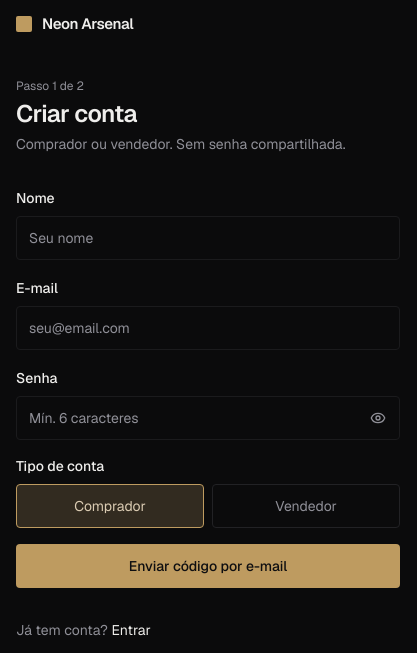
Register › maps 429 on resend to wait copy without leaving step 2
Type "Ana" into the field labelled "Nome". click: (208, 238)
box: x1=16 y1=216 x2=400 y2=260
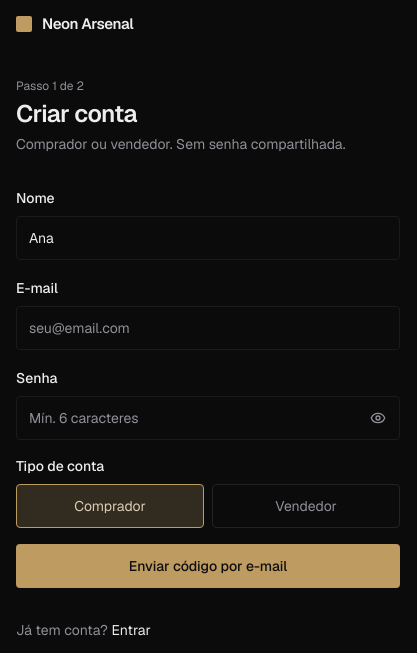
Type "ana@test.com" into the field labelled "E-mail". click: (208, 328)
box: x1=16 y1=306 x2=400 y2=350
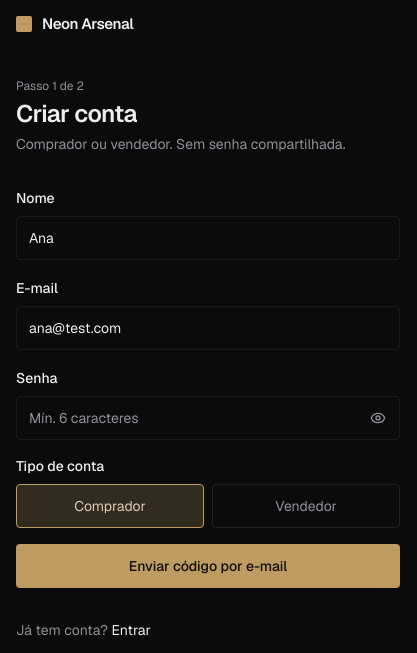
Type "secret1" into the password field labelled "Senha". click: (208, 418)
box: x1=16 y1=396 x2=400 y2=440
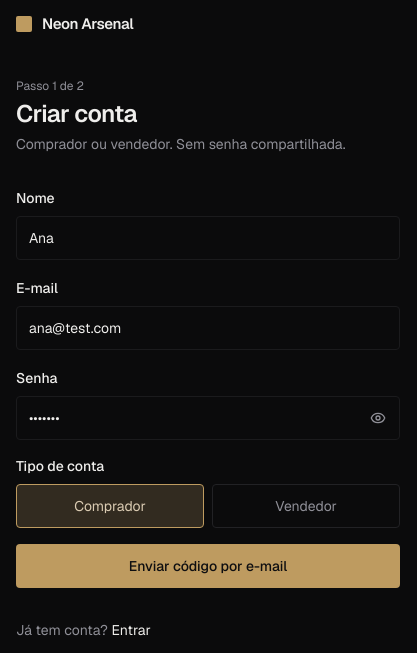
Click the button "Enviar código por e-mail". click: click(208, 566)
box: x1=16 y1=544 x2=400 y2=588
Wait 45000 ms
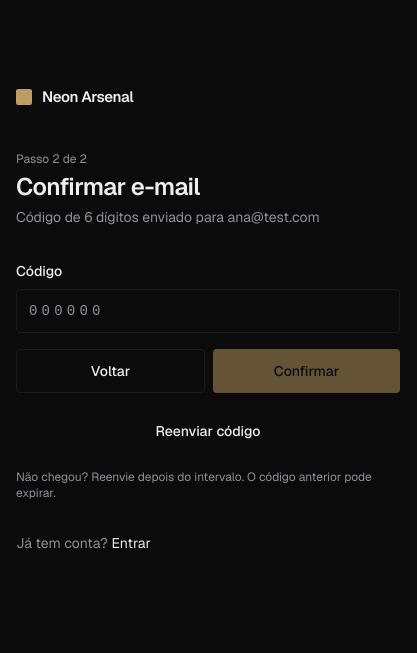
Expected: the field labelled "Código" is shown, x1=16 y1=289 x2=400 y2=333
Click the button "Reenviar código". click: click(208, 431)
box: x1=16 y1=409 x2=400 y2=453
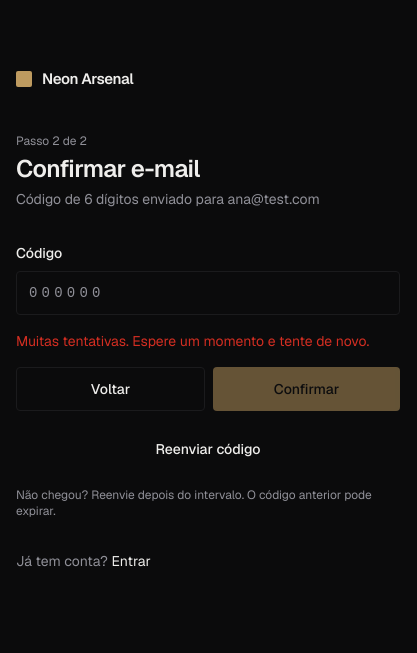
Expected: the field labelled "Código" is shown, x1=16 y1=271 x2=400 y2=315
Expected: the text "Código de 6 dígitos enviado para ana@test.com" is shown, x1=16 y1=190 x2=320 y2=208
Expected: the message reads "Muitas tentativas. Espere um momento e tente de novo.", x1=16 y1=332 x2=369 y2=350
